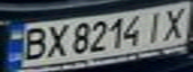1: (106, 15, 127, 49)
2: (90, 17, 112, 53)
4: (121, 11, 148, 47)
8: (69, 19, 93, 56)
B: (15, 25, 51, 62)
I: (142, 8, 169, 44)
X: (157, 3, 193, 42), (42, 21, 69, 60)
